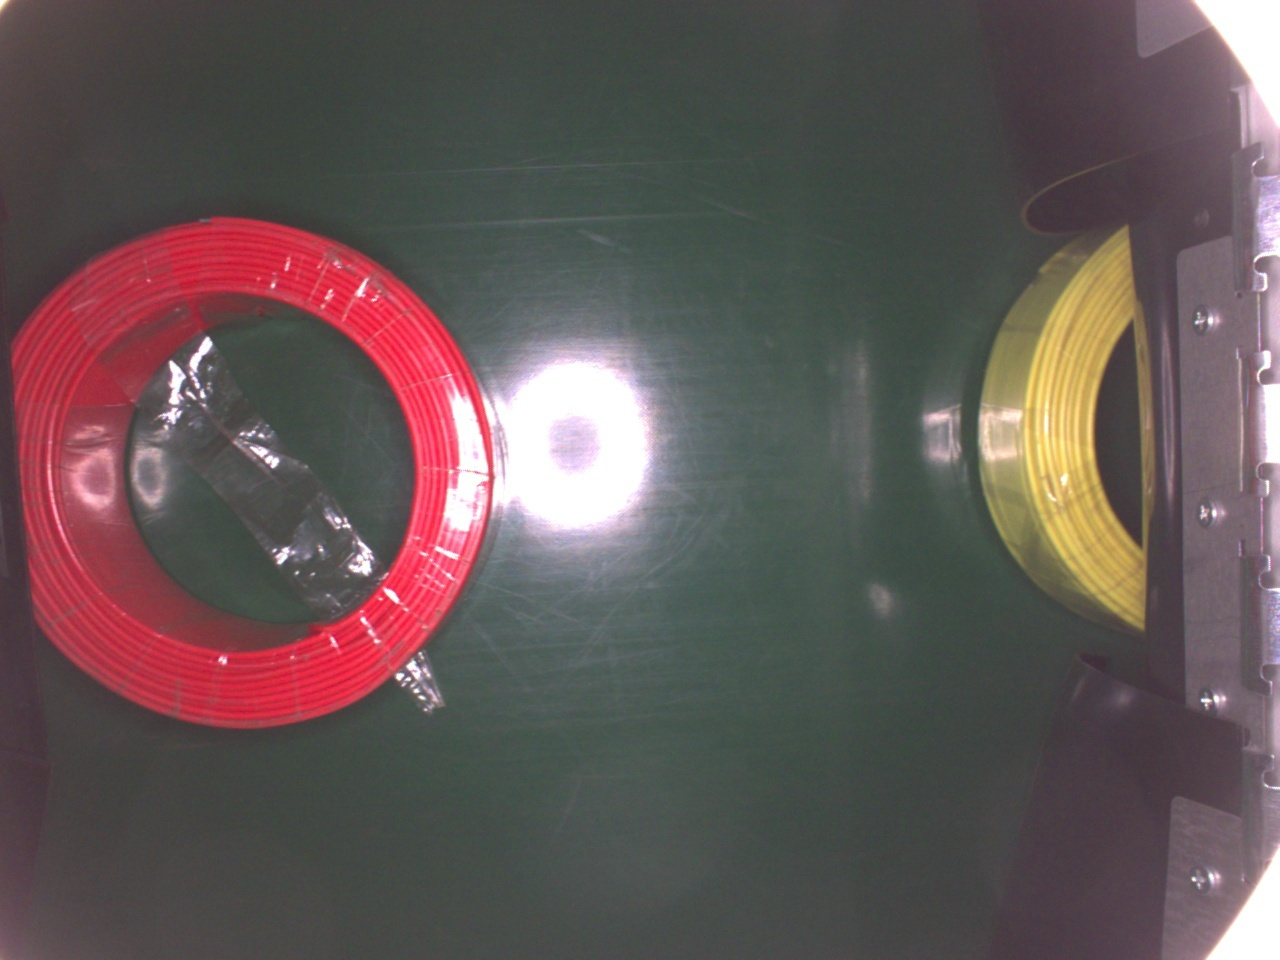red: (15, 214, 496, 732)
yellow: (977, 217, 1151, 633)
